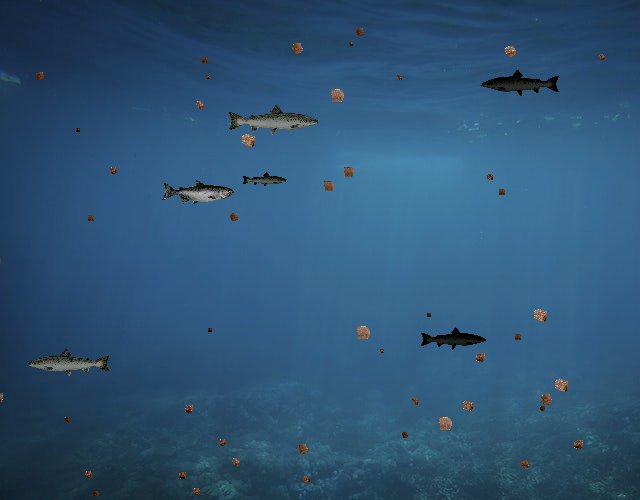Fish: (227, 104, 321, 138), (26, 347, 112, 378), (481, 69, 562, 98), (161, 179, 234, 206), (419, 327, 487, 351), (242, 172, 289, 189)
Pellet: (498, 39, 523, 64), (351, 23, 368, 41), (80, 466, 96, 482), (482, 170, 497, 184), (536, 402, 549, 415), (202, 72, 212, 82)
